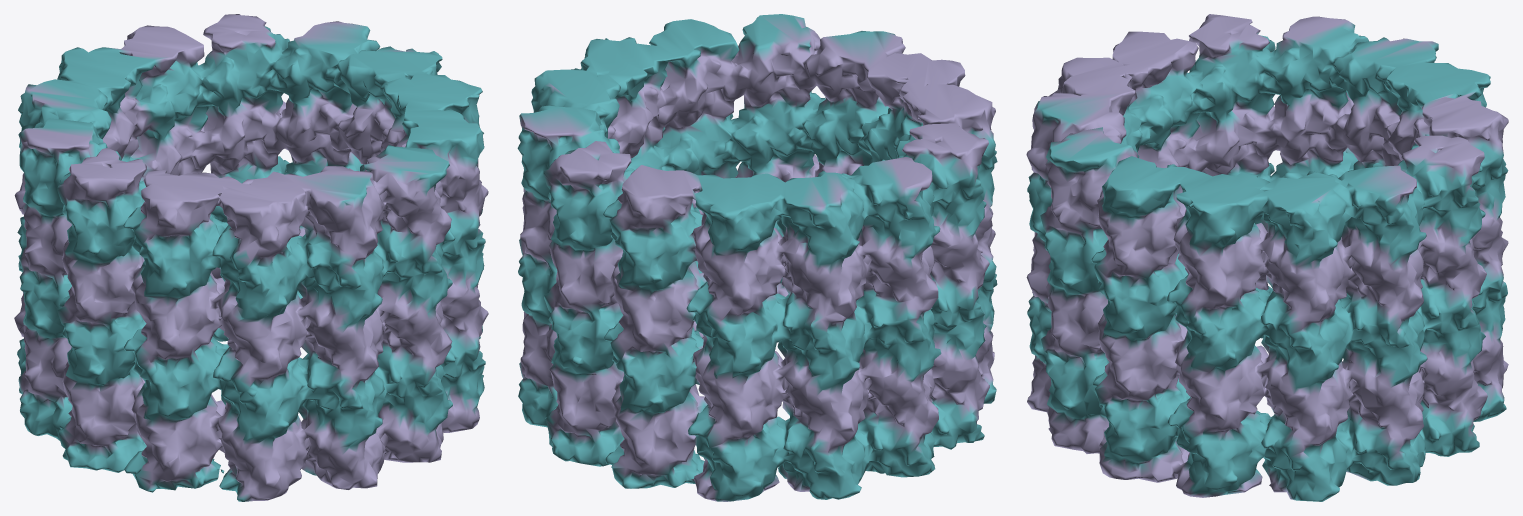
Rendered from pdb-6dpu-microtubule.glb.
3 views of the same model, side by side, from view 1: azimuth 30°, elevation 25°; view 2: azimuth 150°, elevation 25°; view 3: azimuth 270°, elevation 25° (orthographic).
Parts seen in each view (by area): view 1: Microtubule; view 2: Microtubule; view 3: Microtubule.
Boxes of the visible parts, x1,y1,x2,y2 form: Microtubule: (14, 14, 488, 501); Microtubule: (517, 14, 997, 501); Microtubule: (1026, 14, 1508, 501).
Size of the model in its own units: 29.39 by 20 by 29.87.
